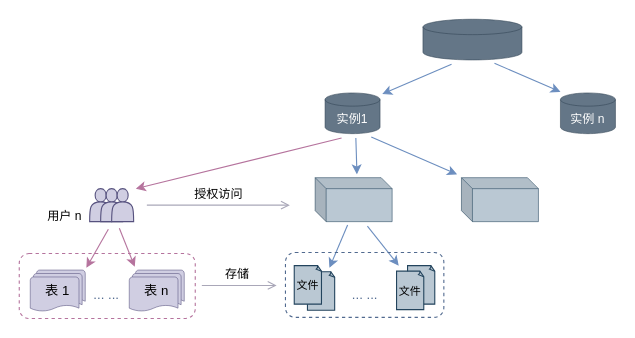
This 635x338 diagram has some shape labels left out. Each missing label, with the centre of its shape:
"oracle 数据库" belongs at (472,39).
"表空间 n" belongs at (499,199).
"表空间1" belongs at (353,199).
